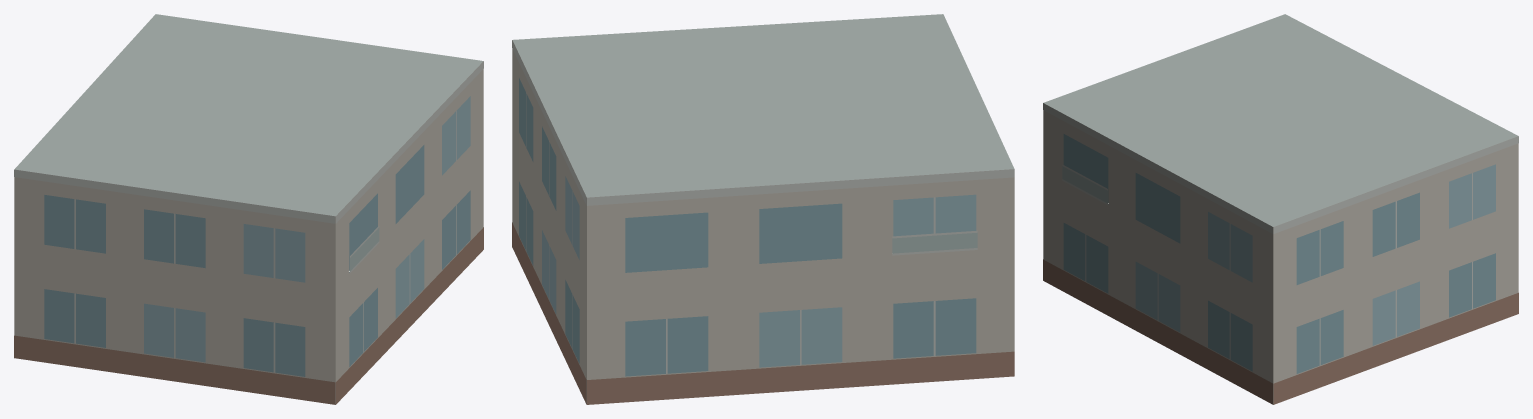
File: survey-upis-32772474.glb
The picture shows the model from 3 angles, left to right: view 1: azimuth 30°, elevation 25°; view 2: azimuth 150°, elevation 25°; view 3: azimuth 270°, elevation 25°; orthographic projection. The views are drawn at different scales.
Parts seen in each view (by area): view 1: survey-upis-32772474.tmp; view 2: survey-upis-32772474.tmp; view 3: survey-upis-32772474.tmp.
Part boxes in pixels (x1,y1,x2,y2): survey-upis-32772474.tmp: (14, 14, 483, 404); survey-upis-32772474.tmp: (512, 14, 1014, 404); survey-upis-32772474.tmp: (1043, 14, 1518, 404).
Bounding box in the file's own units: 15.69 × 6.1 × 14.8.
